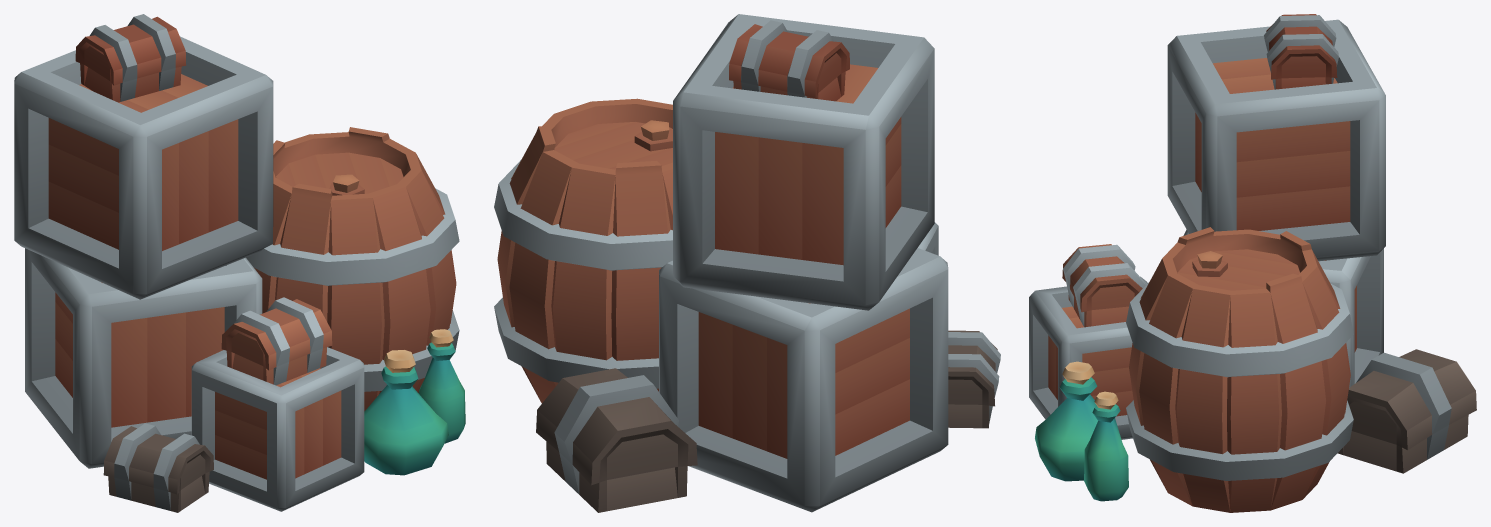
Rendered from box_stacked.glb.
3 views of the same model, side by side, from view 1: azimuth 30°, elevation 25°; view 2: azimuth 150°, elevation 25°; view 3: azimuth 270°, elevation 25° (orthographic). The views are drawn at different scales.
Parts seen in each view (by area): view 1: box_stacked; view 2: box_stacked; view 3: box_stacked.
Part boxes in pixels (x1,y1,x2,y2): box_stacked: (14,14,465,512); box_stacked: (494,14,1000,512); box_stacked: (1029,14,1476,512).
Size of the model in its own units: 3.48 by 3.31 by 3.63.
Materials: 1 (1 with a texture image).
